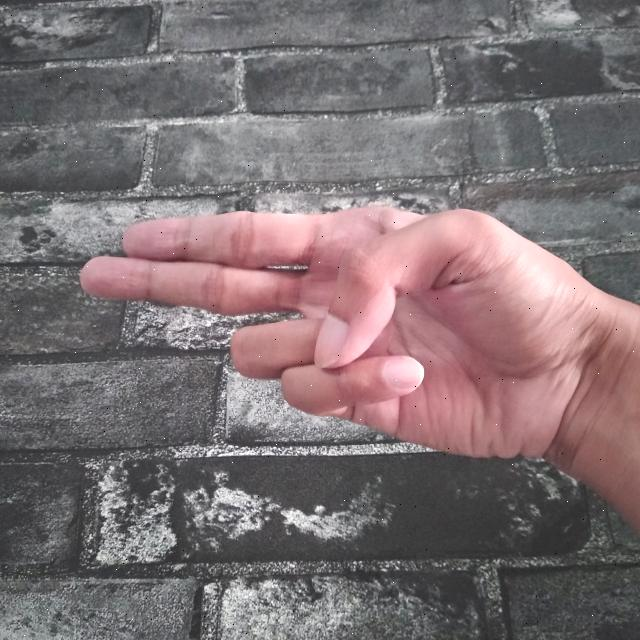H: (66, 196, 640, 540)
